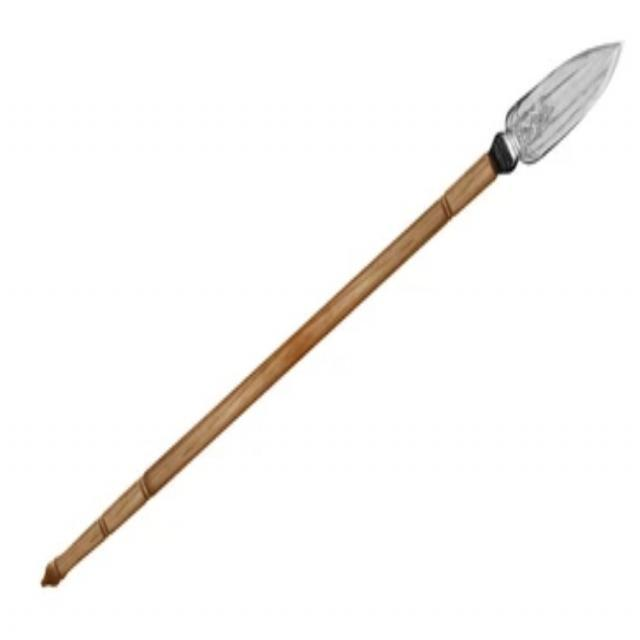spear: (36, 20, 631, 602)
